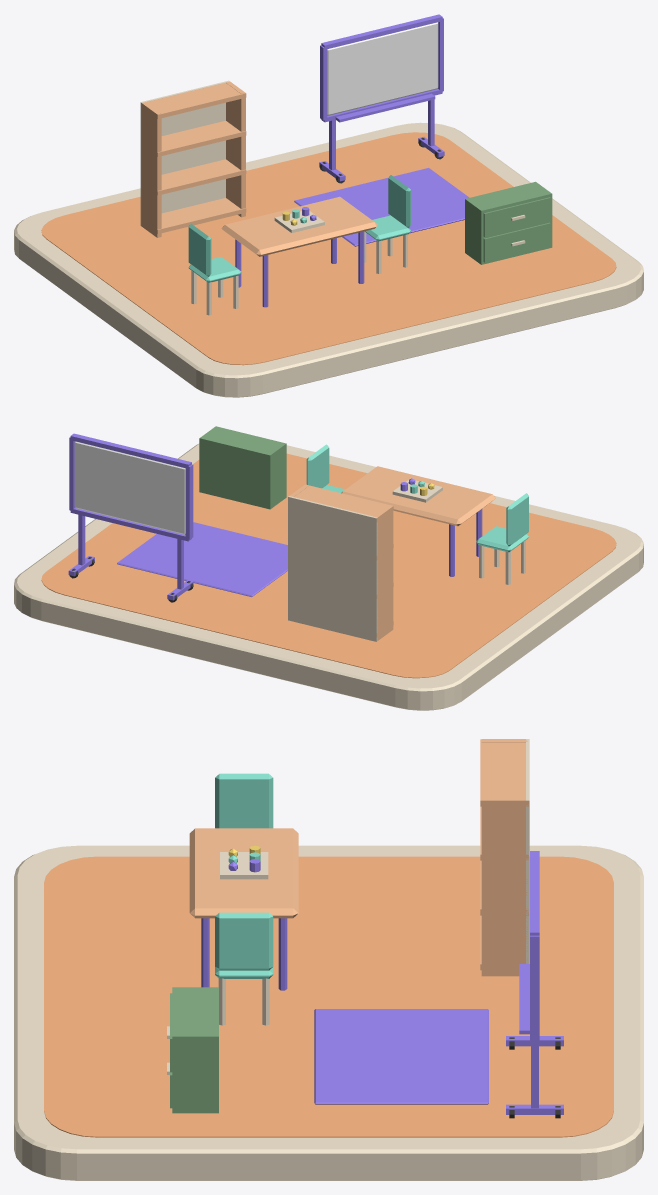
3 renders of one model, top to bottom at view 1: azimuth 30°, elevation 25°; view 2: azimuth 150°, elevation 25°; view 3: azimuth 270°, elevation 25°, orthographic. The views are drawn at different scales.
Parts seen in each view (by area): view 1: COM-02 Floor Surface, COM-01 Rounded Base Direct, Writing surface, Cabinet, Rug, Rounded table top, Back, Side, Side.001, Shelf.003, Shelf.001, Shelf.002 (+8 smaller); view 2: COM-02 Floor Surface, COM-01 Rounded Base Direct, Back, Writing surface, Rug, Cabinet, Rounded table top, Side, Shelf.003, Frame rail.001, Backrest, Backrest.001 (+5 smaller); view 3: COM-02 Floor Surface, COM-01 Rounded Base Direct, Rug, Rounded table top, Side.001, Cabinet, Backrest.001, Backrest, Shelf.003, Frame upright.001, Activity board, Back (+4 smaller).
Part boxes in pixels (x1,y1,x2,y2): COM-02 Floor Surface: [41, 132, 616, 365]; COM-01 Rounded Base Direct: [14, 122, 643, 397]; Writing surface: [327, 22, 438, 115]; Cabinet: [465, 181, 552, 264]; Rug: [294, 168, 469, 246]; Rounded table top: [222, 196, 377, 256]; Back: [140, 80, 229, 226]; Side: [141, 102, 161, 237]; Side.001: [226, 81, 245, 217]; Shelf.003: [141, 83, 246, 118]; Shelf.001: [141, 159, 246, 195]; Shelf.002: [141, 120, 246, 156]; COM-02 Floor Surface: [41, 453, 616, 678]; COM-01 Rounded Base Direct: [14, 444, 643, 710]; Back: [288, 496, 377, 641]; Writing surface: [74, 441, 185, 534]; Rug: [117, 522, 287, 596]; Cabinet: [199, 426, 286, 509]; Rounded table top: [341, 466, 495, 526]; Side: [373, 505, 393, 640]; Shelf.003: [294, 484, 393, 522]; Frame rail.001: [70, 433, 191, 468]; Backrest: [506, 493, 528, 546]; Backrest.001: [306, 444, 329, 488]; COM-02 Floor Surface: [44, 856, 613, 1137]; COM-01 Rounded Base Direct: [14, 845, 643, 1180]; Rug: [314, 1009, 488, 1104]; Rounded table top: [189, 828, 298, 918]; Side.001: [481, 797, 527, 976]; Cabinet: [167, 987, 218, 1113]; Backrest.001: [215, 912, 273, 970]; Backrest: [215, 773, 273, 828]; Shelf.003: [480, 739, 528, 806]; Frame upright.001: [530, 935, 539, 1039]; Activity board: [220, 852, 268, 879]; Back: [526, 739, 529, 963].
Bounding box in the file's own units: 6 × 2.04 × 5.2.
1 material, 1 textured.
